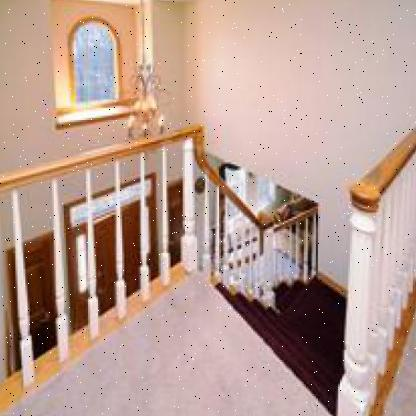stair_down: (187, 211, 354, 390)
